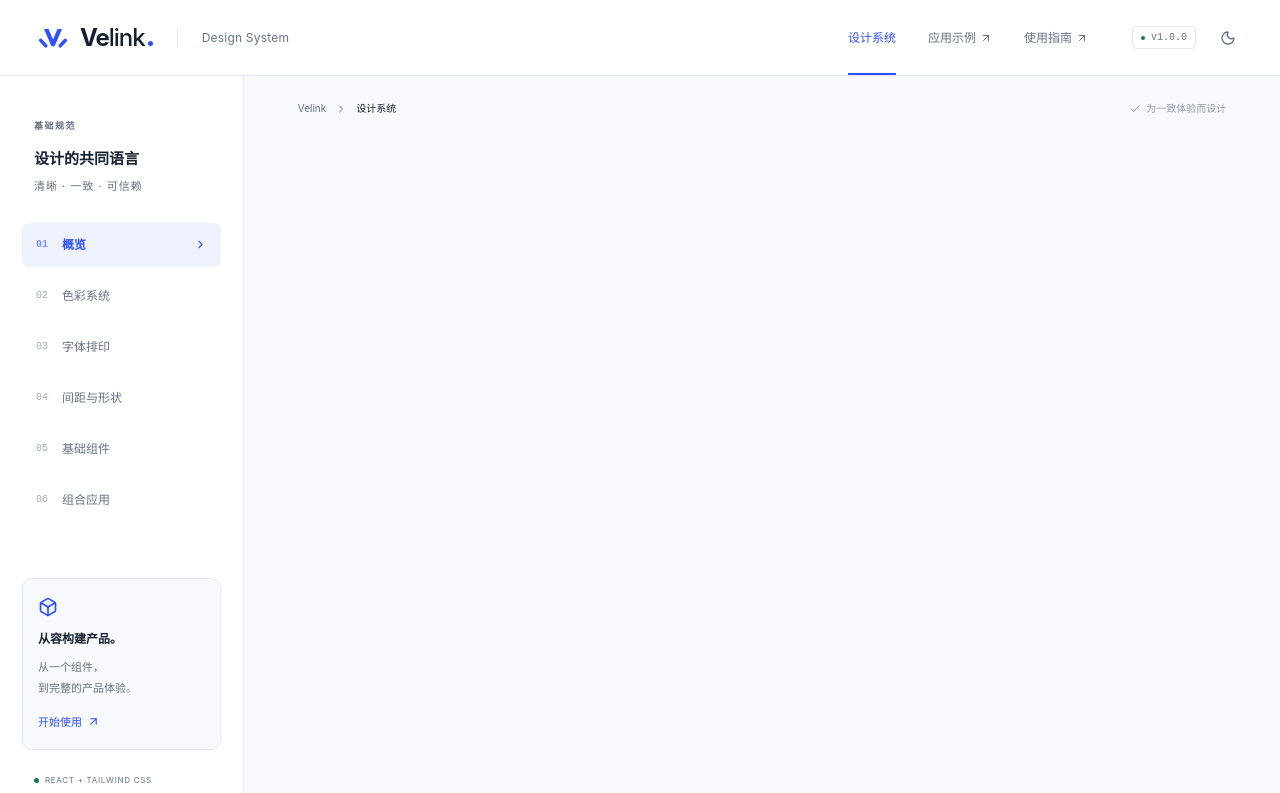
Test: renders the complete page, changes theme and persists the preference
Click the button named "切换深色主题" at x=1228, y=38, box [1212, 22, 1244, 54]
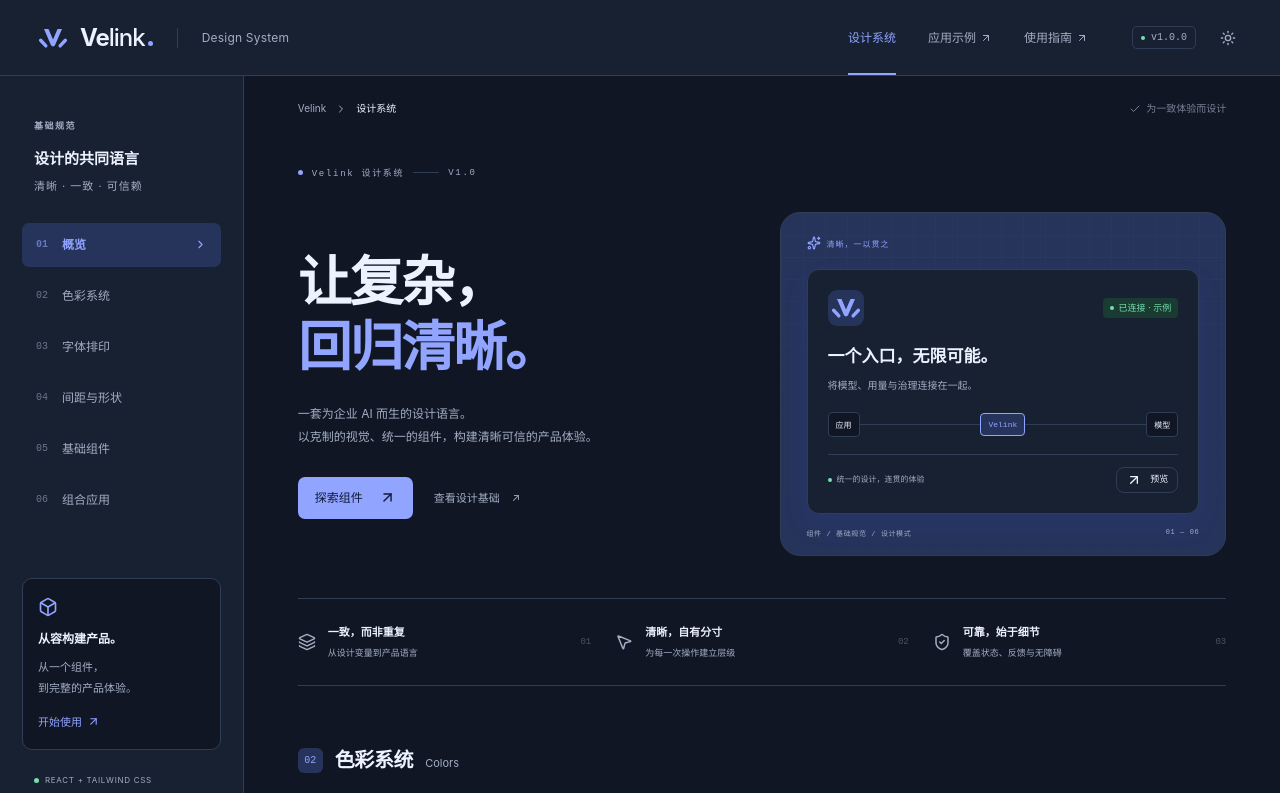
Check: the button named "切换浅色主题" is shown, box [1212, 22, 1244, 54]
